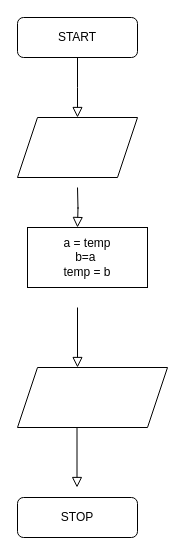
This 185x555 diagram has some shape labels left out. The shapes that lost their labels are listed below. From the top down, each one's centre as x and y in pixels, then its label:
the point at 77,147: Write " any two numbers " Read a,b
the point at 92,397: Write " Value after interchang", a,b
